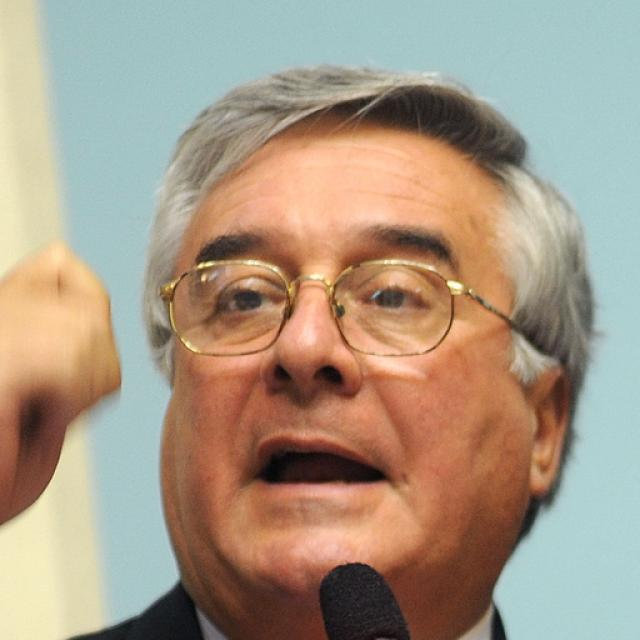fear: (170, 120, 535, 584)
